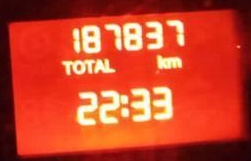1: (72, 23, 80, 53)
2: (75, 89, 96, 124), (99, 88, 118, 124)
3: (151, 85, 173, 122), (130, 86, 150, 122), (144, 20, 163, 48)
7: (166, 16, 186, 47), (103, 21, 121, 50)
8: (122, 20, 142, 51), (81, 22, 100, 53)
X: (166, 55, 182, 69), (72, 58, 84, 75), (120, 93, 128, 118), (104, 56, 116, 72), (94, 57, 104, 74), (84, 58, 95, 73), (61, 59, 71, 75), (157, 53, 166, 69)
